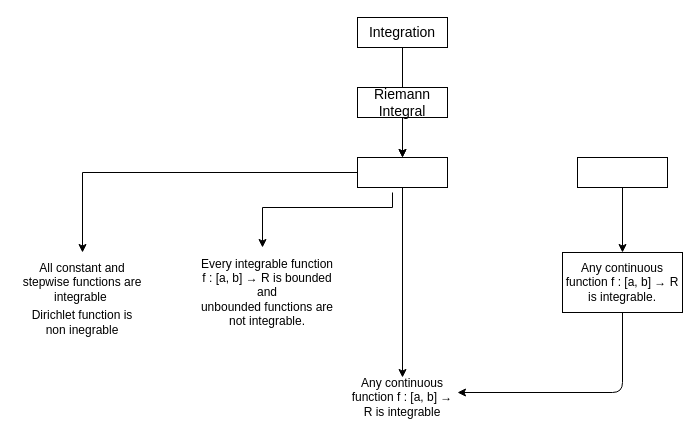
This 700x436 diagram has some shape labels left out. The centre of each missing label's shape, as x and y in pixels:
"Integrablity" belongs at [402,172].
"Uniform Continuity" belongs at [622,172].
